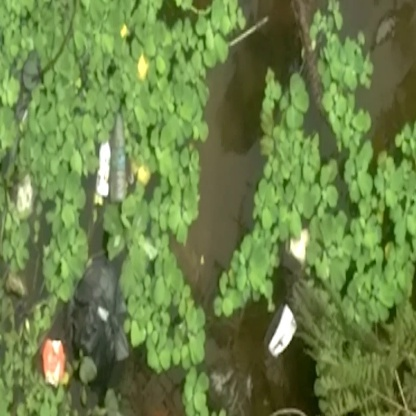plastic-bag: (68, 252, 143, 369)
